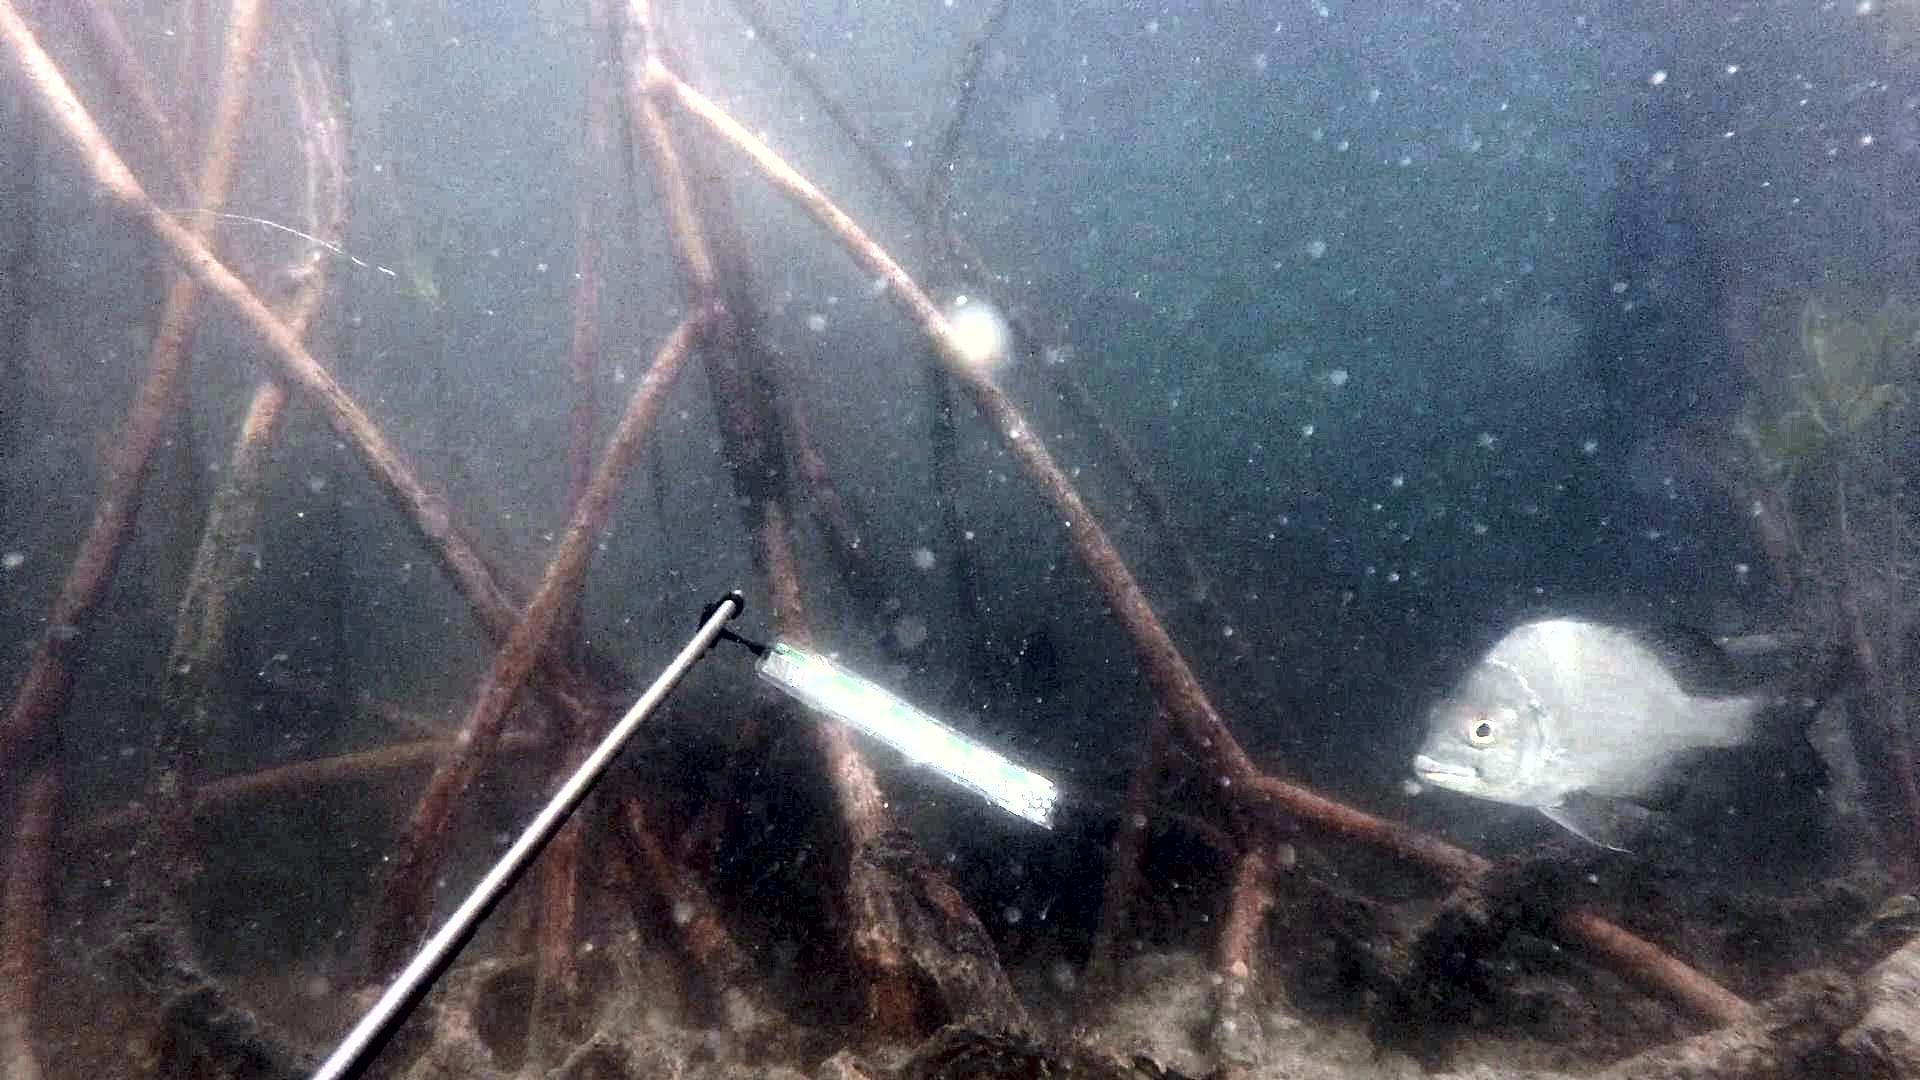acanthopagrus palmaris: (1405, 598, 1856, 876)
